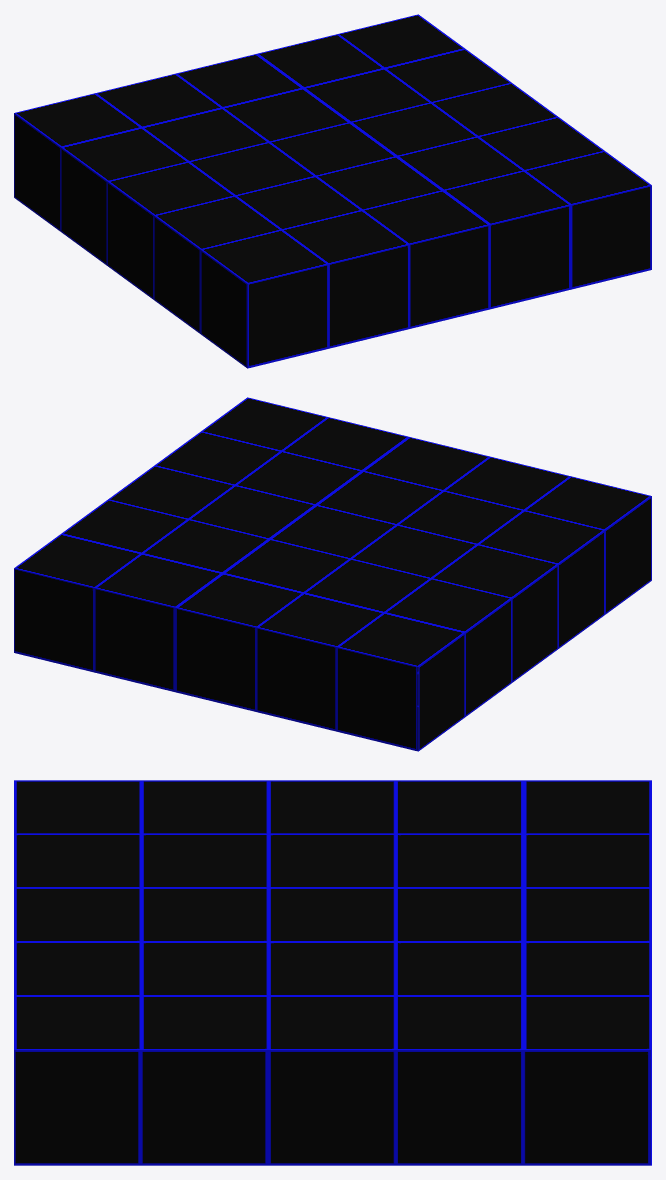
File: Platform5x5.FBX
3 views of the same model, one above another, from view 1: azimuth 30°, elevation 25°; view 2: azimuth 150°, elevation 25°; view 3: azimuth 270°, elevation 25° (orthographic). The views are drawn at different scales.
Parts seen in each view (by area): view 1: Box001; view 2: Box001; view 3: Box001.
Boxes of the visible parts, x1,y1,x2,y2 form: Box001: (14, 14, 651, 368); Box001: (14, 397, 651, 751); Box001: (14, 780, 651, 1165).
Size of the model in its own units: 197 by 39.37 by 197.
1 material, 1 textured.
